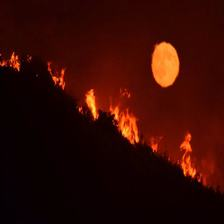fire: (163, 119, 219, 198), (82, 83, 143, 149), (6, 39, 73, 92)
